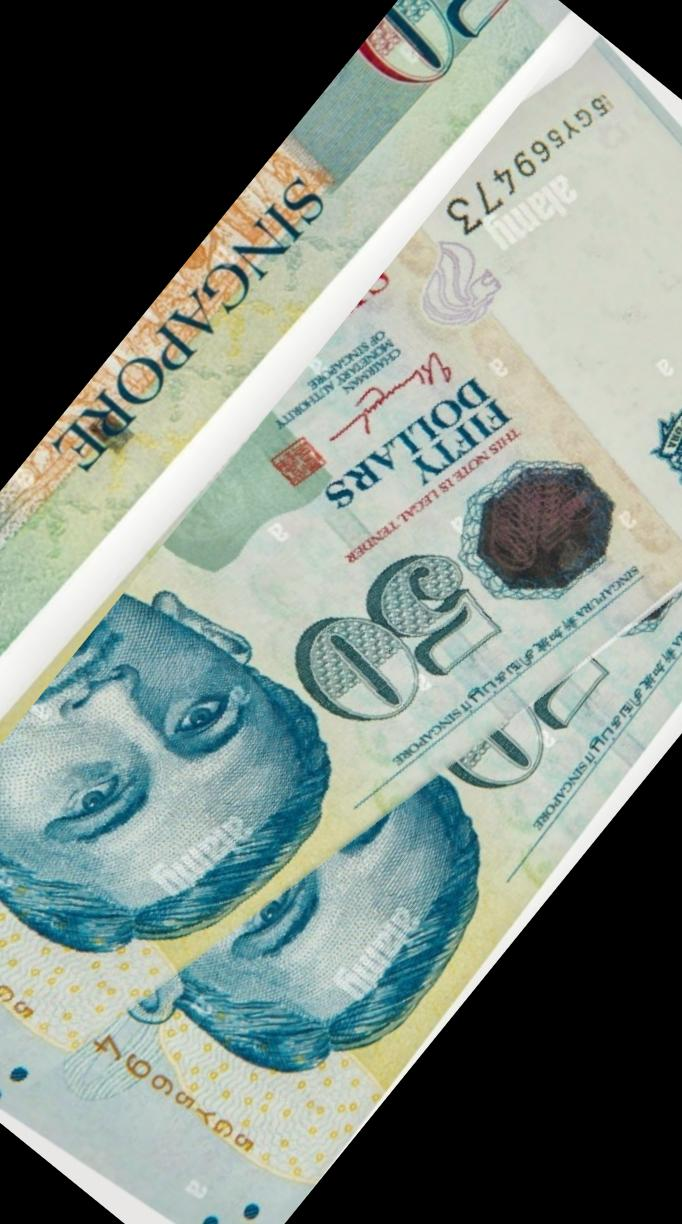50SingaporeDollar: (0, 55, 682, 1224)
